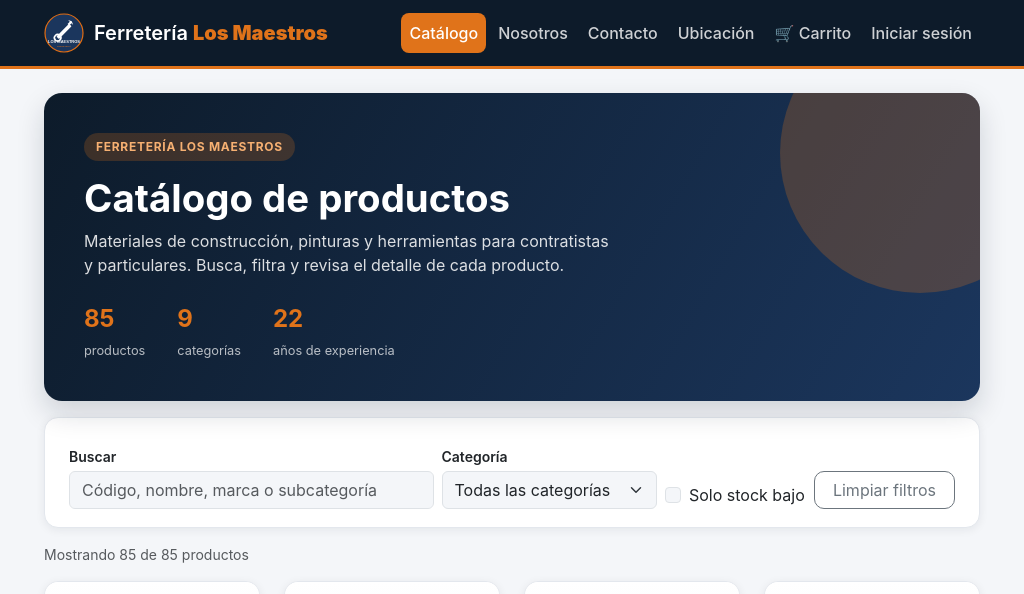
Páginas y navegación (integración) › el filtro por categoría y "Limpiar filtros" funcionan
Expected: the text "Mostrando 85 de 85 productos" is shown, [44,546,249,563]
Select "Pinturas" in the dropdown labelled "Categoría" at (549, 490), box [442,471,657,509]
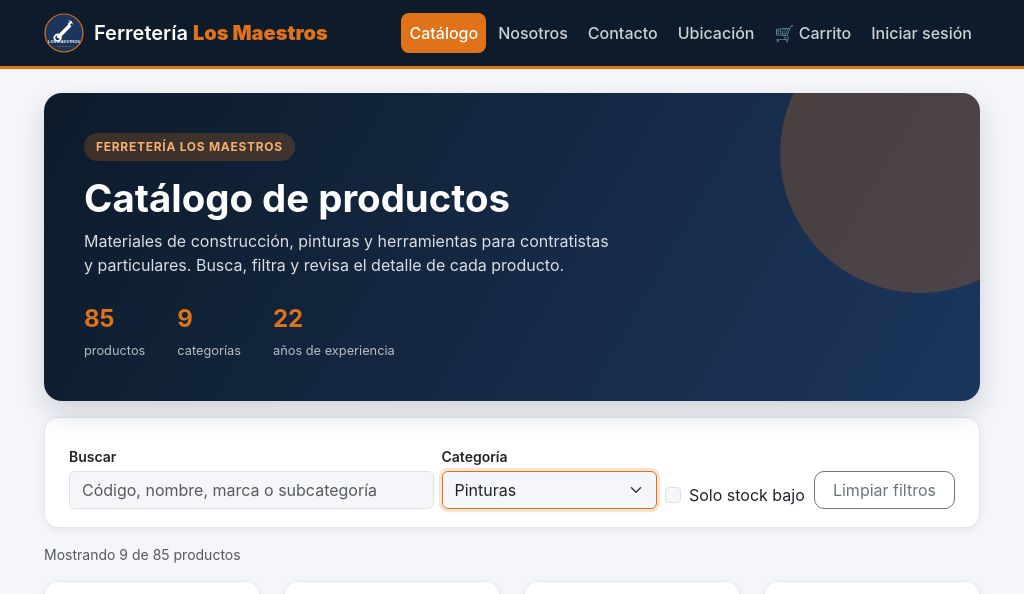
Now the text "Mostrando 9 de 85 productos" is shown, box [44,546,241,563]
Click the button "Limpiar filtros" at (884, 490), box [814,471,955,509]
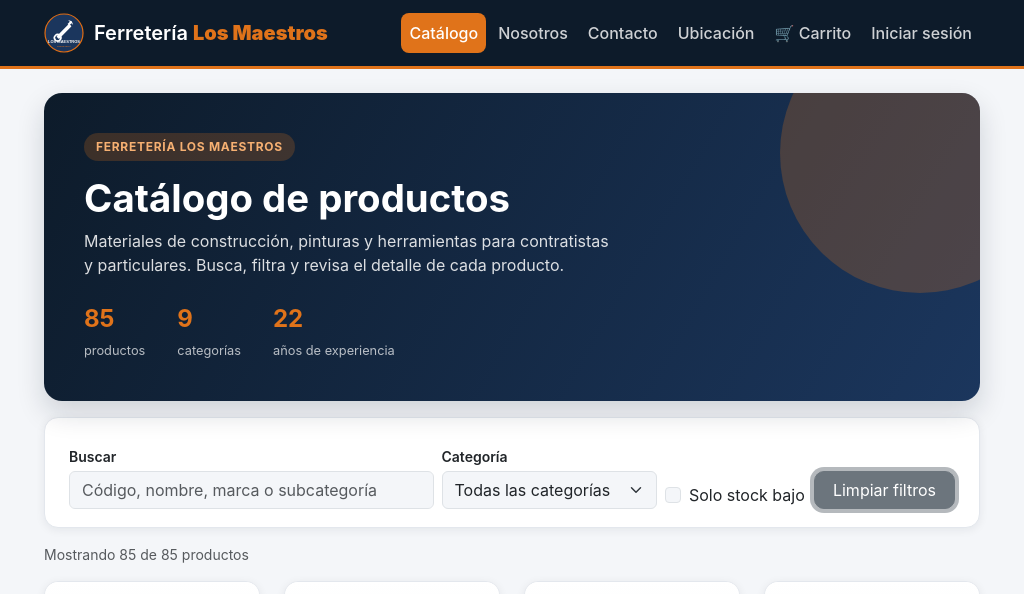
Now the text "Mostrando 85 de 85 productos" is shown, box [44,546,249,563]
